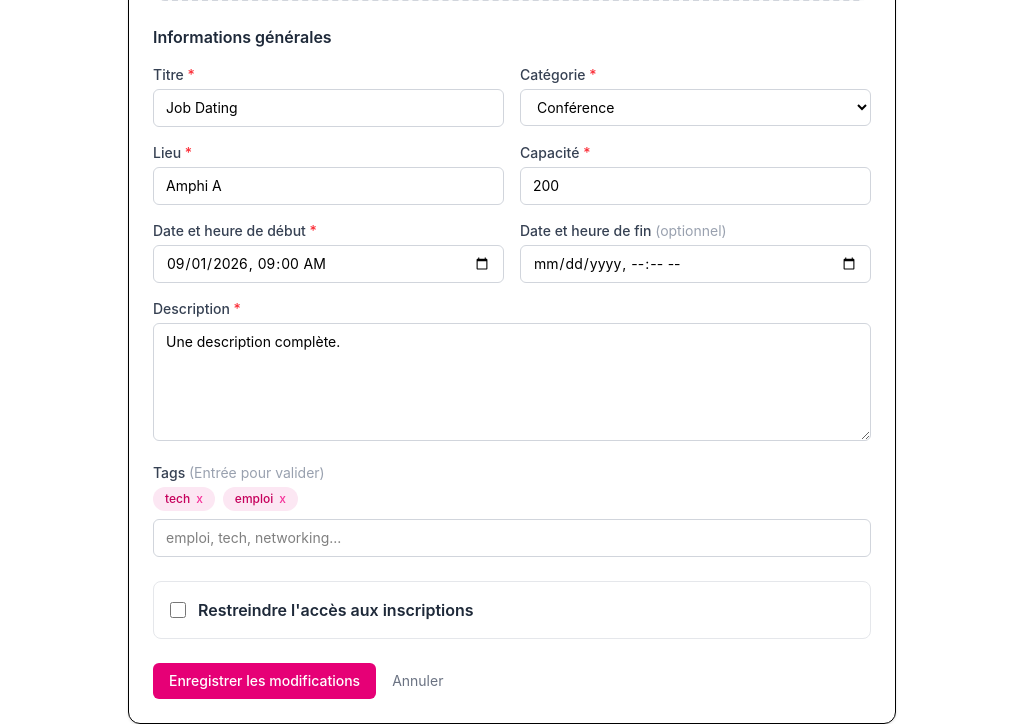
Test case: EventEditPage › closes confirmation dialog when clicking Annuler
(page scrolled)
Click the button "Enregistrer les modifications" at (265, 681), box 153,663 -> 376,699
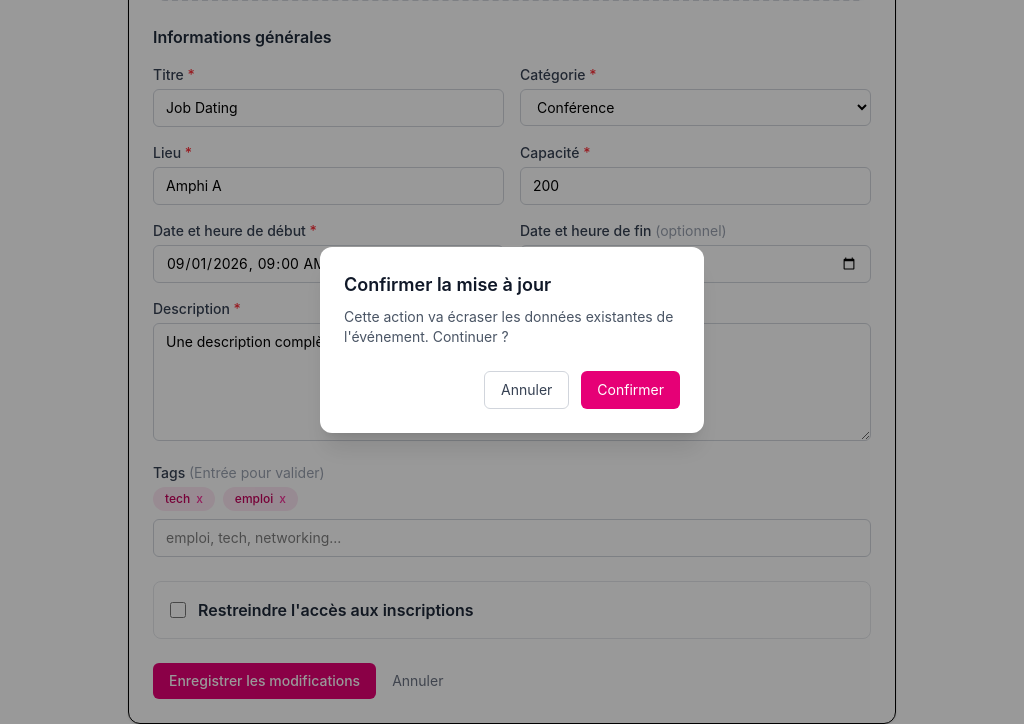
Click the button "Annuler" at (527, 390), box 484,371 -> 569,409
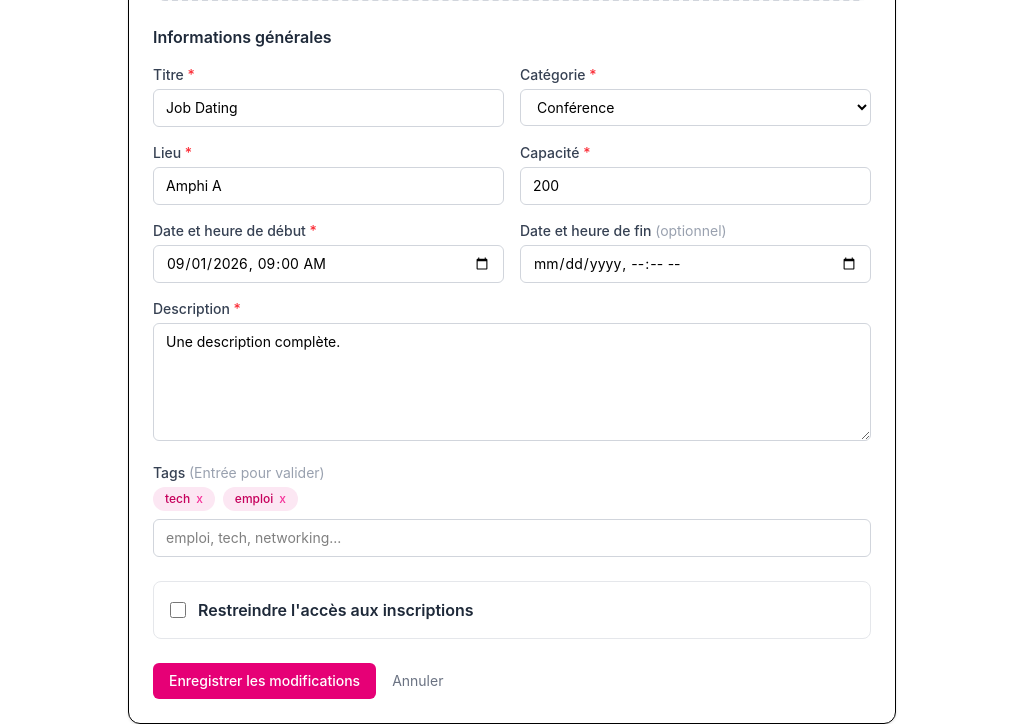
Now the heading "Confirmer la mise à jour" is gone
